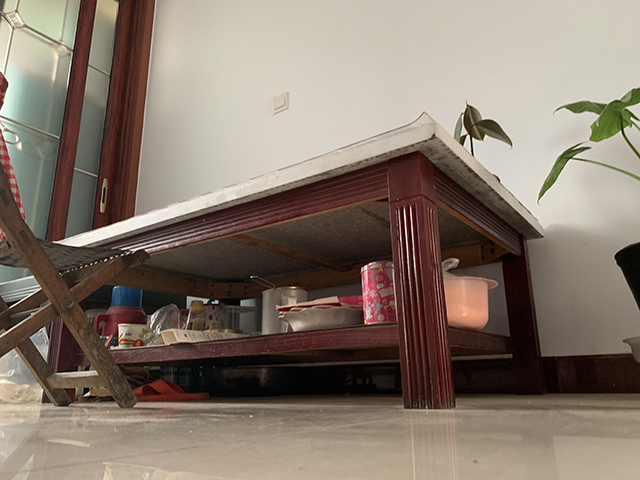slippers: (131, 377, 211, 403)
stool: (1, 163, 156, 412)
table: (39, 121, 551, 411)
